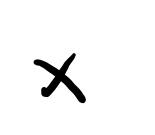mult: (31, 53, 86, 105)
